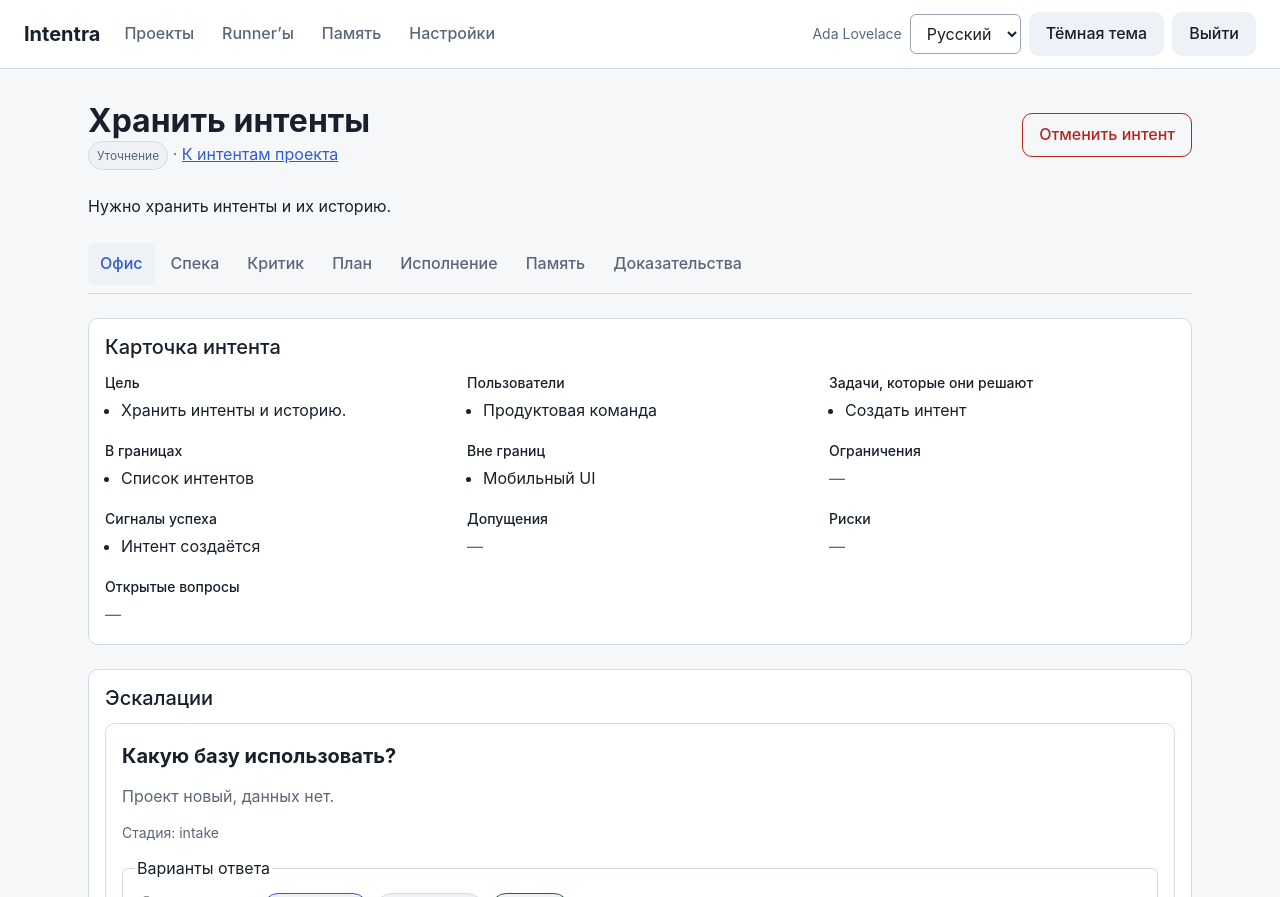
Test case: IntentShellPage › closes the cancel confirmation on Escape and returns focus to the trigger
Click the button "Отменить интент". click: (1107, 135)
box: [1022,113,1192,157]
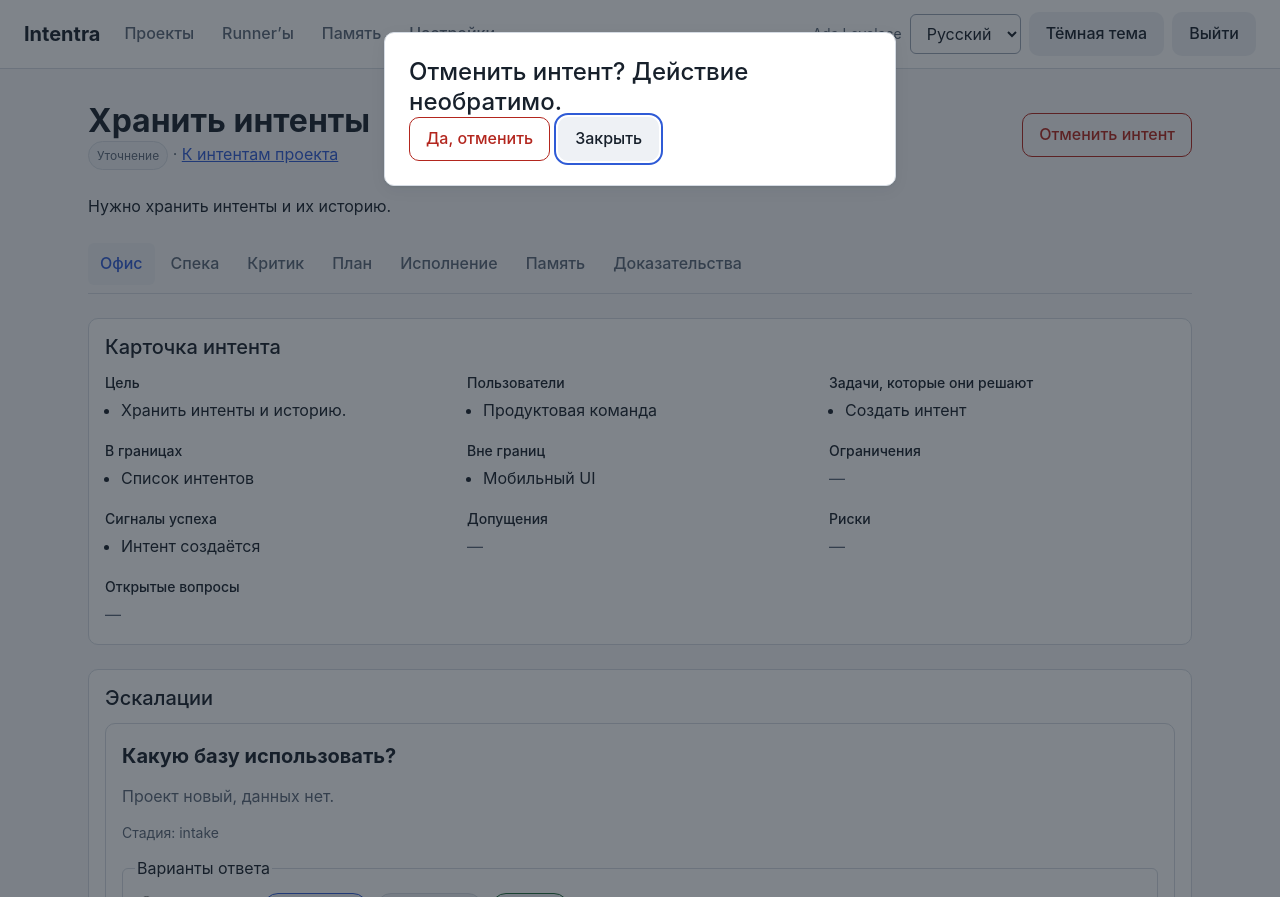
Press Tab
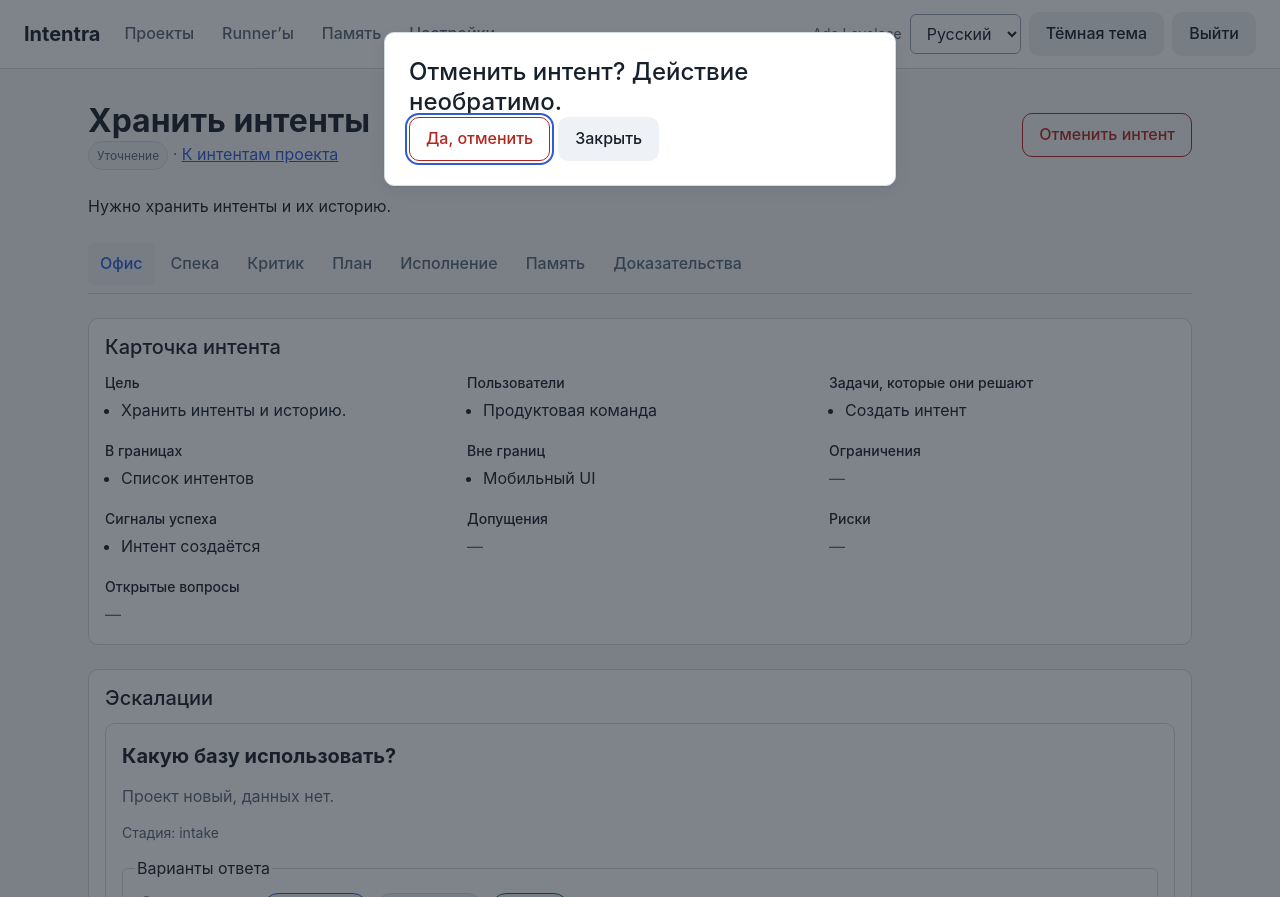
Press Shift+Tab
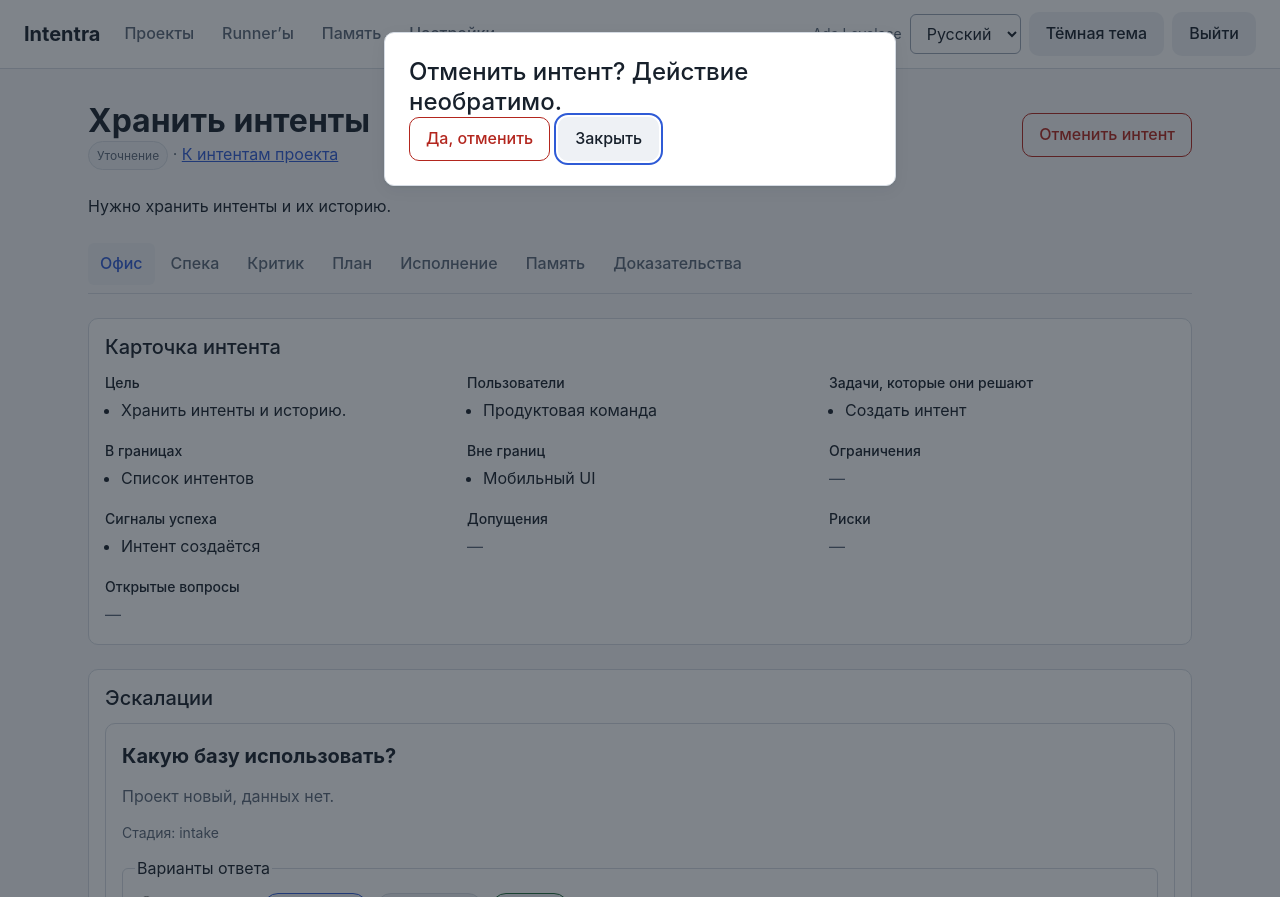
Press Escape
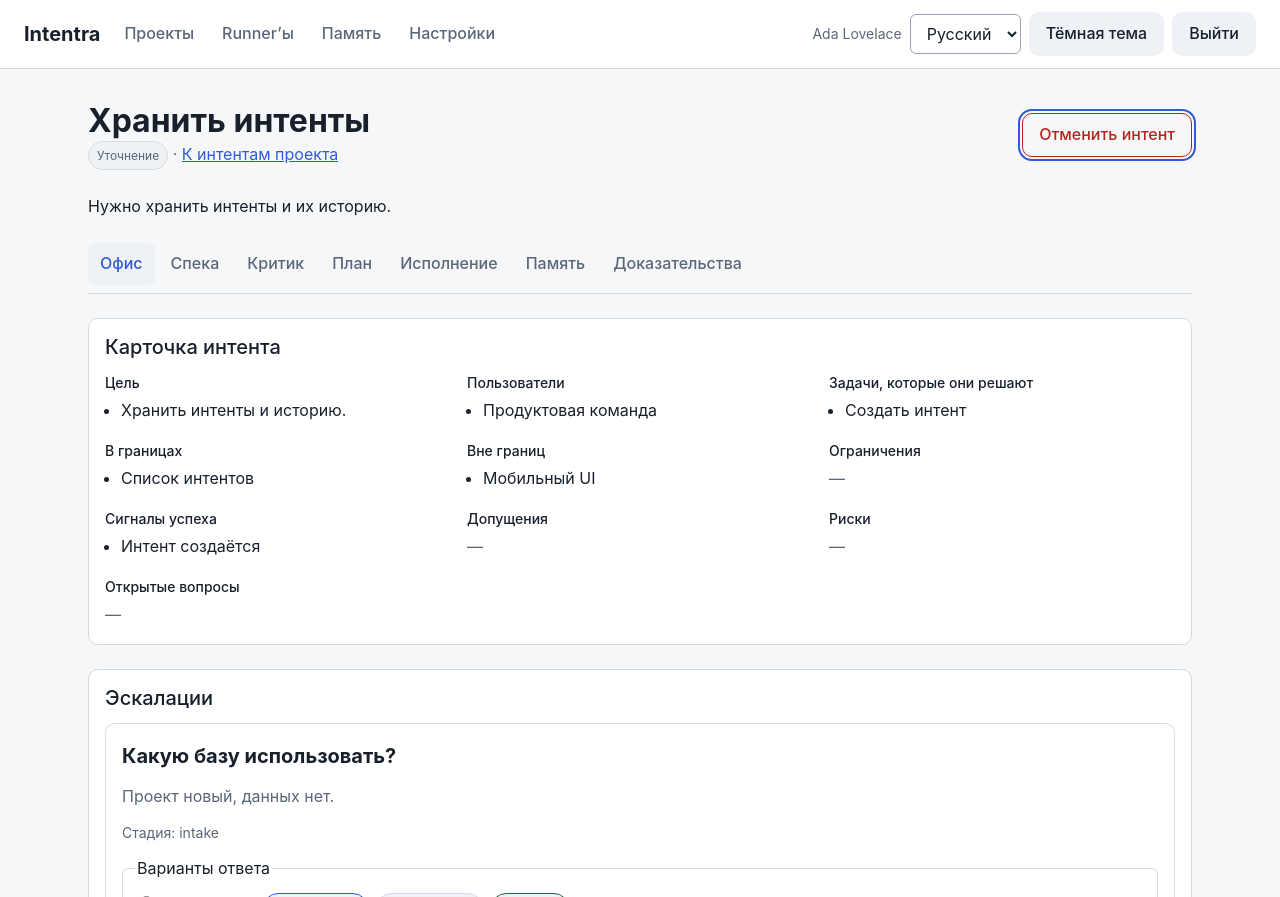
Expected: the dialog is gone
